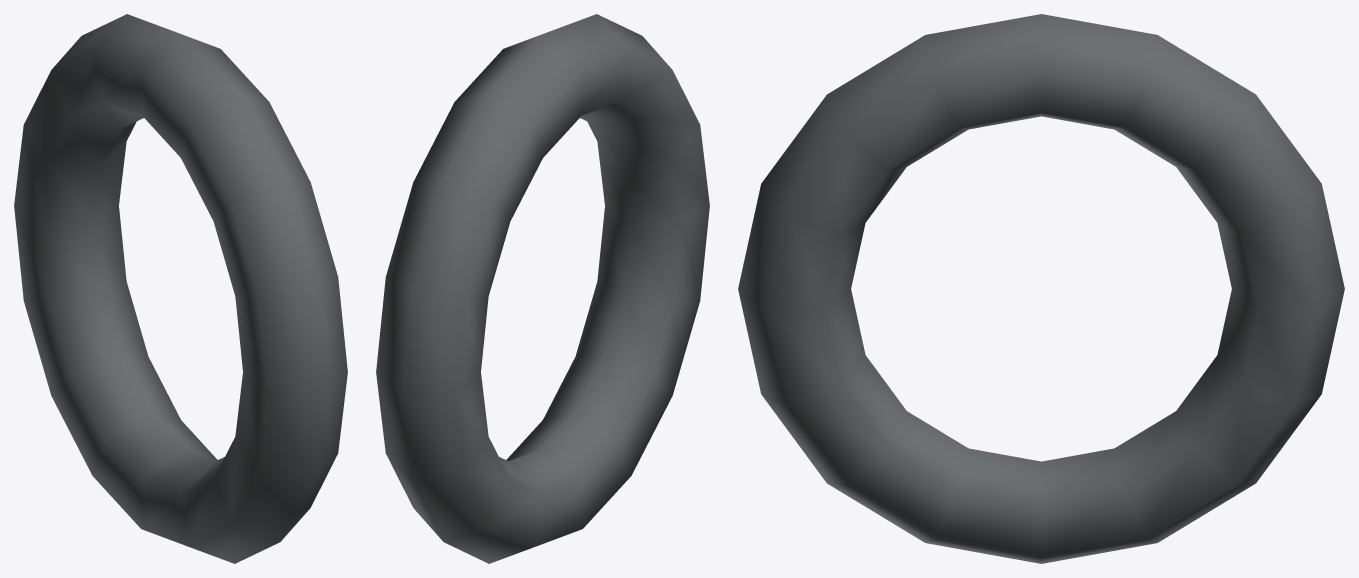
File: Chain_03.fbx
3 views of the same model, side by side, from view 1: azimuth 30°, elevation 25°; view 2: azimuth 150°, elevation 25°; view 3: azimuth 270°, elevation 25° (orthographic). The views are drawn at different scales.
Visible parts, largest first — view 1: Chain_03; view 2: Chain_03; view 3: Chain_03.
Part boxes in pixels (<box>): Chain_03: <box>14,14,347,563</box>; Chain_03: <box>376,14,709,563</box>; Chain_03: <box>738,14,1344,563</box>.
Bounding box in the file's own units: 0.1941 × 1.19 × 1.19.
